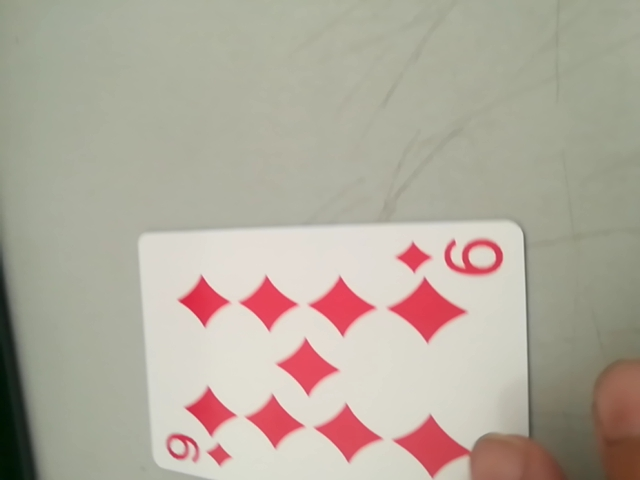fk 9: (394, 229, 509, 284), (159, 427, 238, 476)
